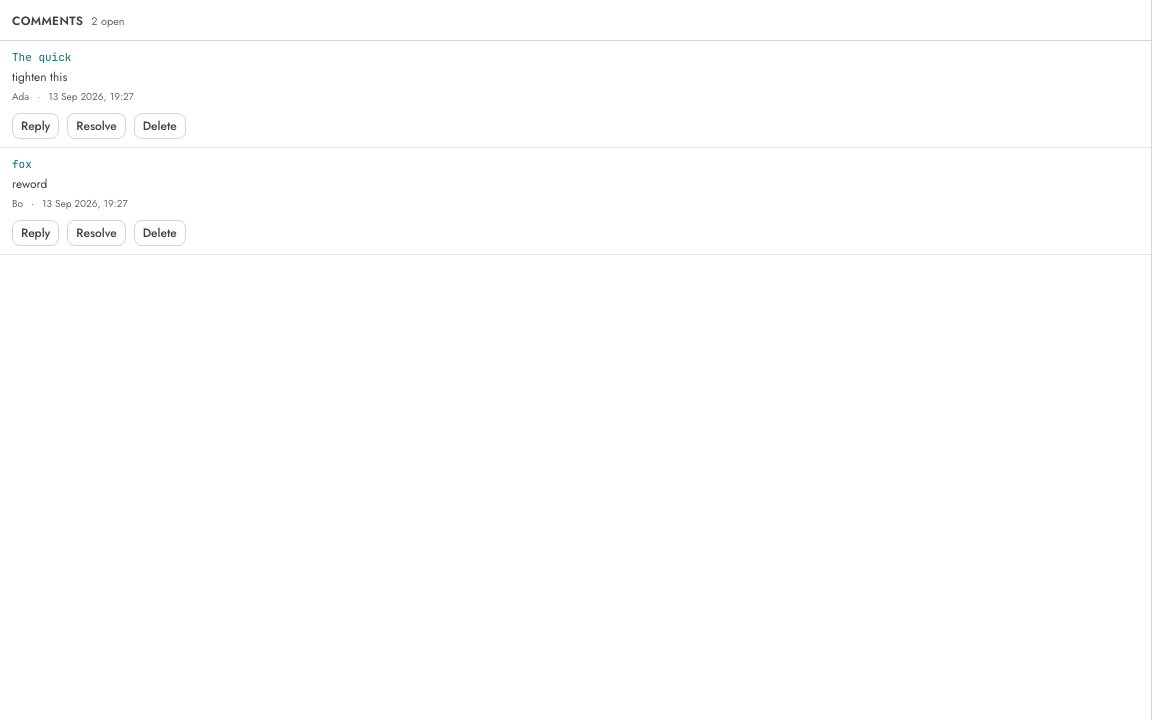
it: CommentsPanel › reply input adds a reply via the helper
Click the 1st button "Reply". click: (36, 126)
box: [12,113,59,139]
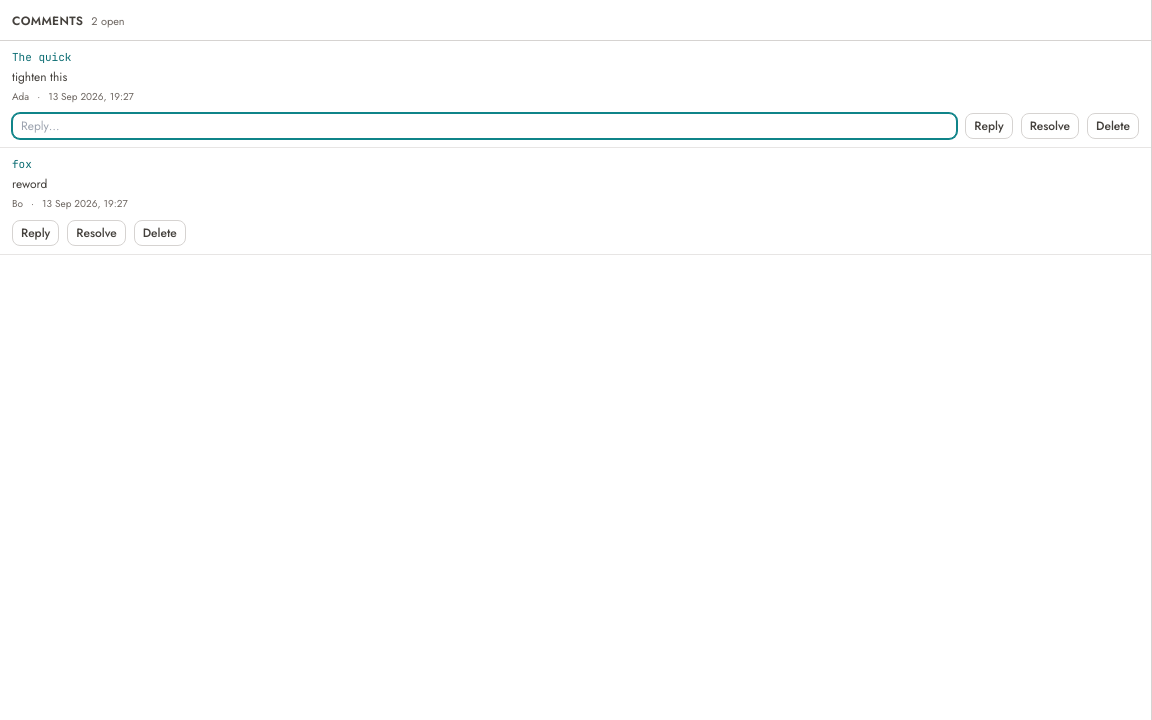
Type "good idea" into the field with placeholder "Reply…". click: (485, 126)
box: [12,113,957,139]
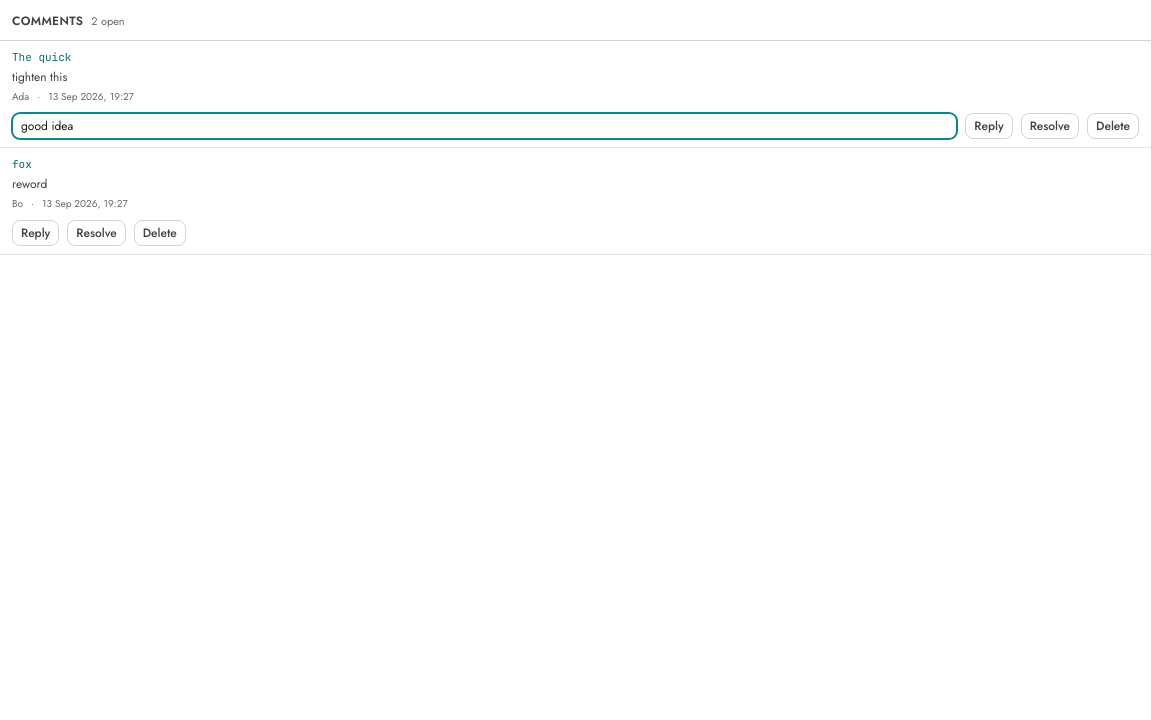
Click the 1st button "Reply". click: (989, 126)
box: [965,113,1013,139]
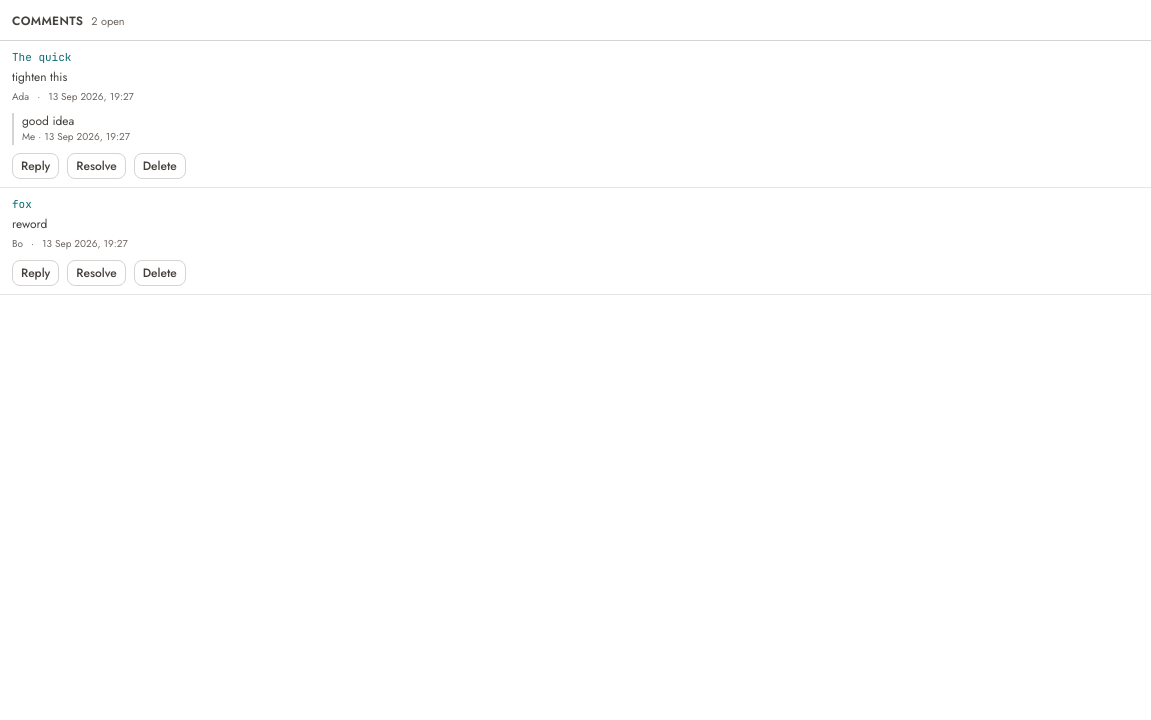
Now the text "good idea" is shown, box [22,112,74,130]
